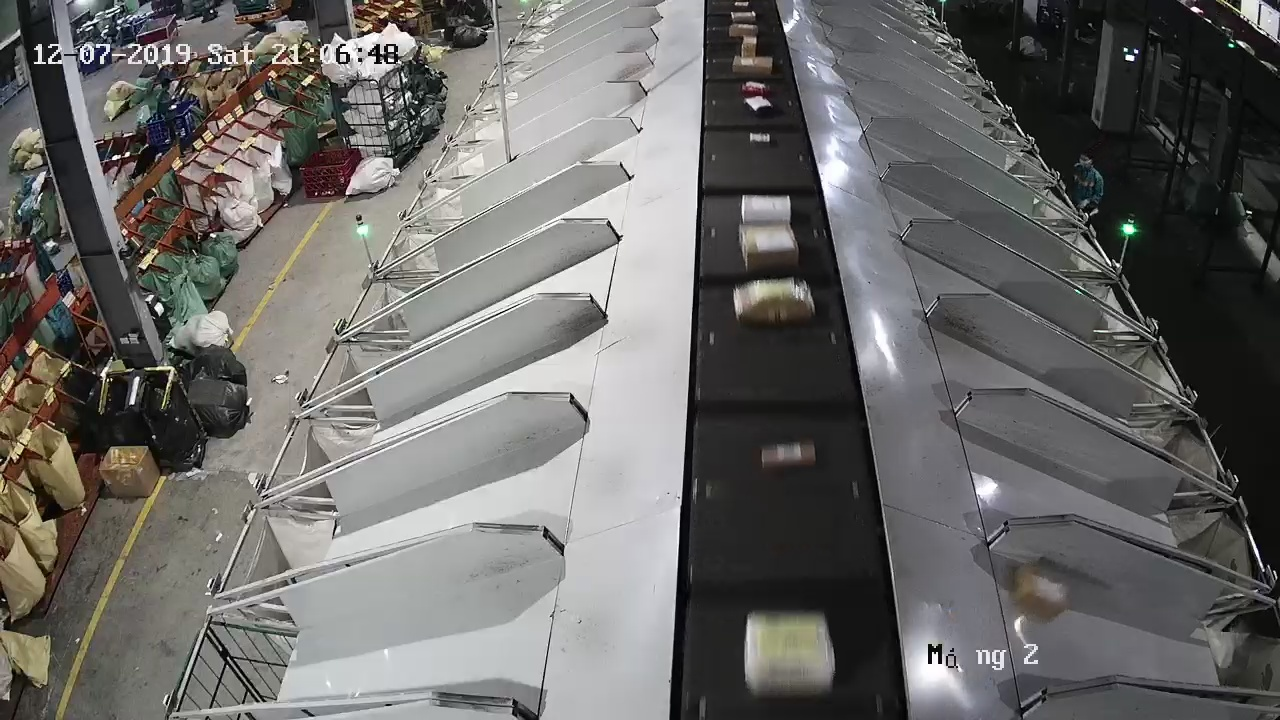parcel: (1012, 562, 1071, 622)
